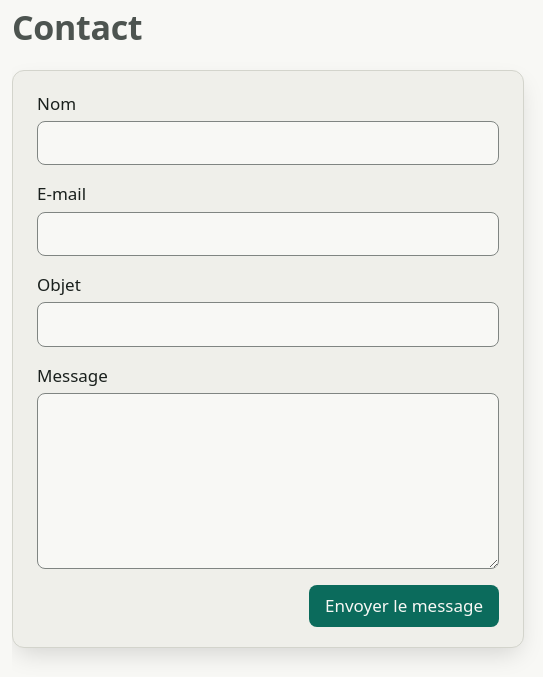
Scenario: ContactPage › sending a message › confirms in French
Type "Grace" into the field labelled "Nom".
click(268, 143); type("Grace")  # box [37,121,499,165]
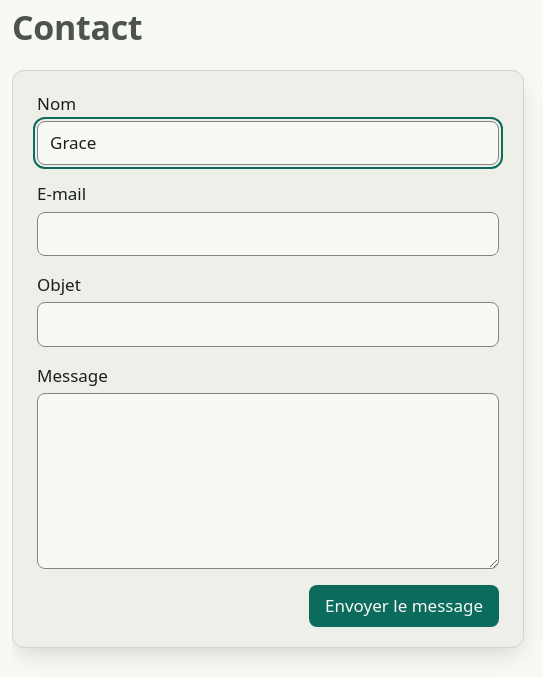
Type "grace@example.com" into the field labelled "E-mail".
click(268, 234); type("grace@example.com")  # box [37,212,499,256]
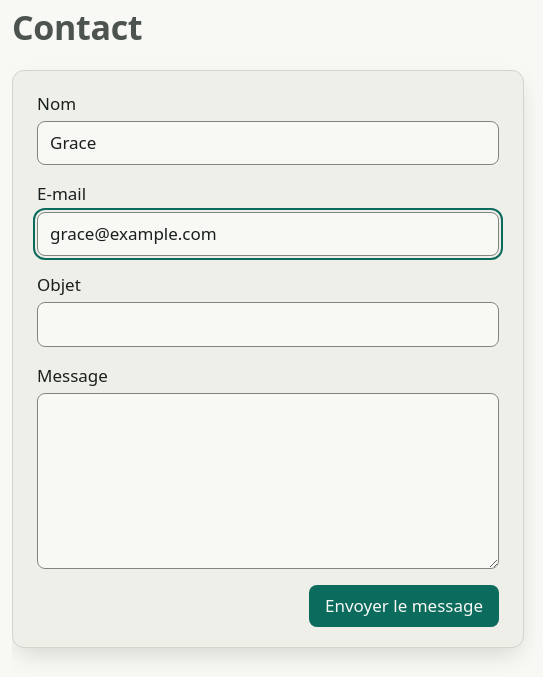
Type "Say hello" into the field labelled "Objet".
click(268, 324); type("Say hello")  # box [37,302,499,347]
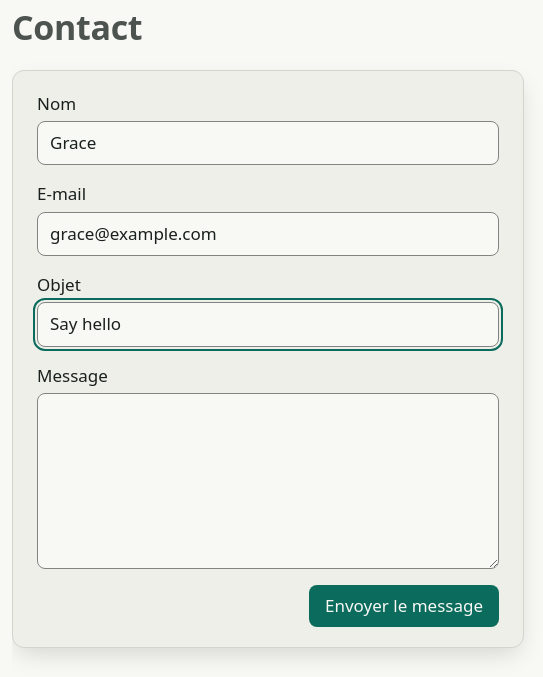
Type "Hello, I would like to talk." into the text box labelled "Message".
click(268, 481); type("Hello, I would like to talk.")  # box [37,393,499,569]
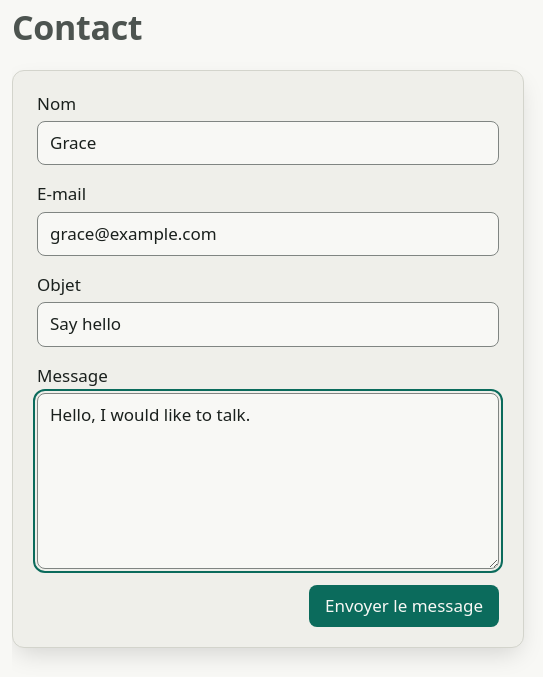
Click the button "Envoyer le message".
click(404, 606)  # box [309,585,499,627]
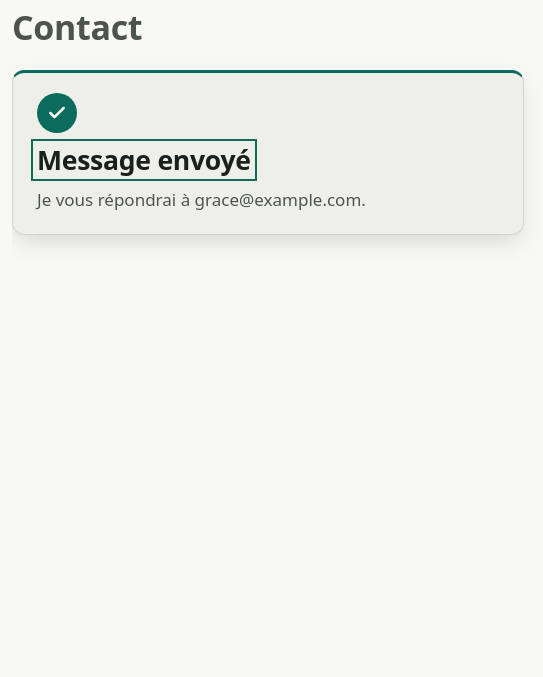
expect the text "Je vous répondrai à grace@example.com." is shown: met, box [37,187,366,214]
